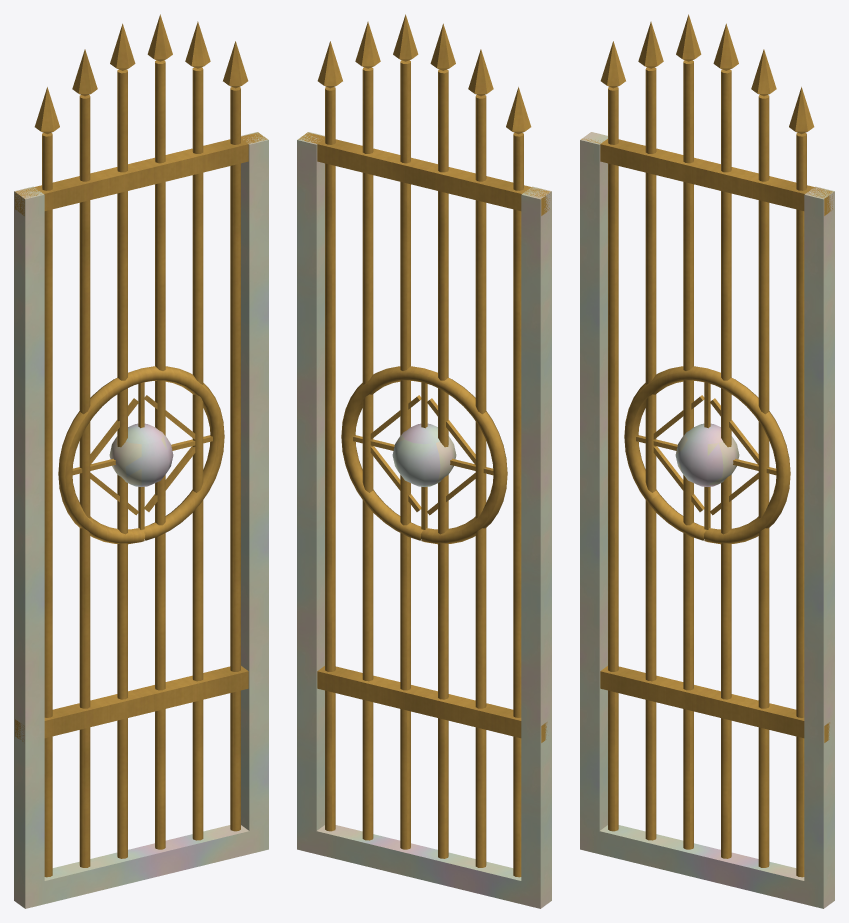
File: lb_gatedoor_l.glb
The picture shows the model from 3 angles, left to right: view 1: azimuth 30°, elevation 25°; view 2: azimuth 150°, elevation 25°; view 3: azimuth 330°, elevation 25°; orthographic projection.
Visible parts, largest first — view 1: lb_gatedoor_l; view 2: lb_gatedoor_l; view 3: lb_gatedoor_l.
Boxes of the visible parts, x1,y1,x2,y2 form: lb_gatedoor_l: [14, 14, 268, 908]; lb_gatedoor_l: [297, 14, 551, 908]; lb_gatedoor_l: [580, 14, 834, 908].
Size of the model in its own units: 1.76 by 5.92 by 0.4.
Materials: 2 (2 with a texture image).
